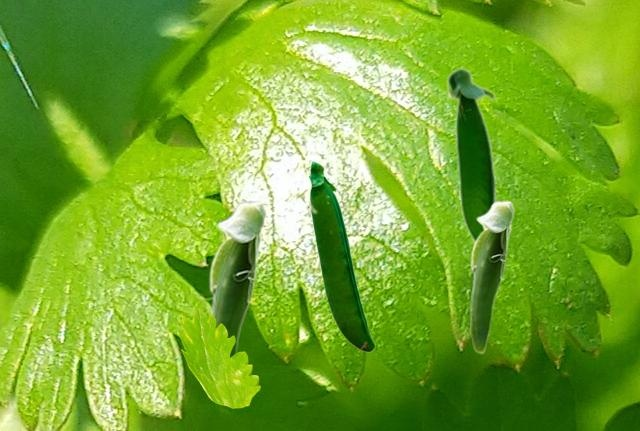pea: (308, 160, 374, 351), (207, 200, 266, 355), (445, 66, 496, 242), (469, 200, 514, 353)
